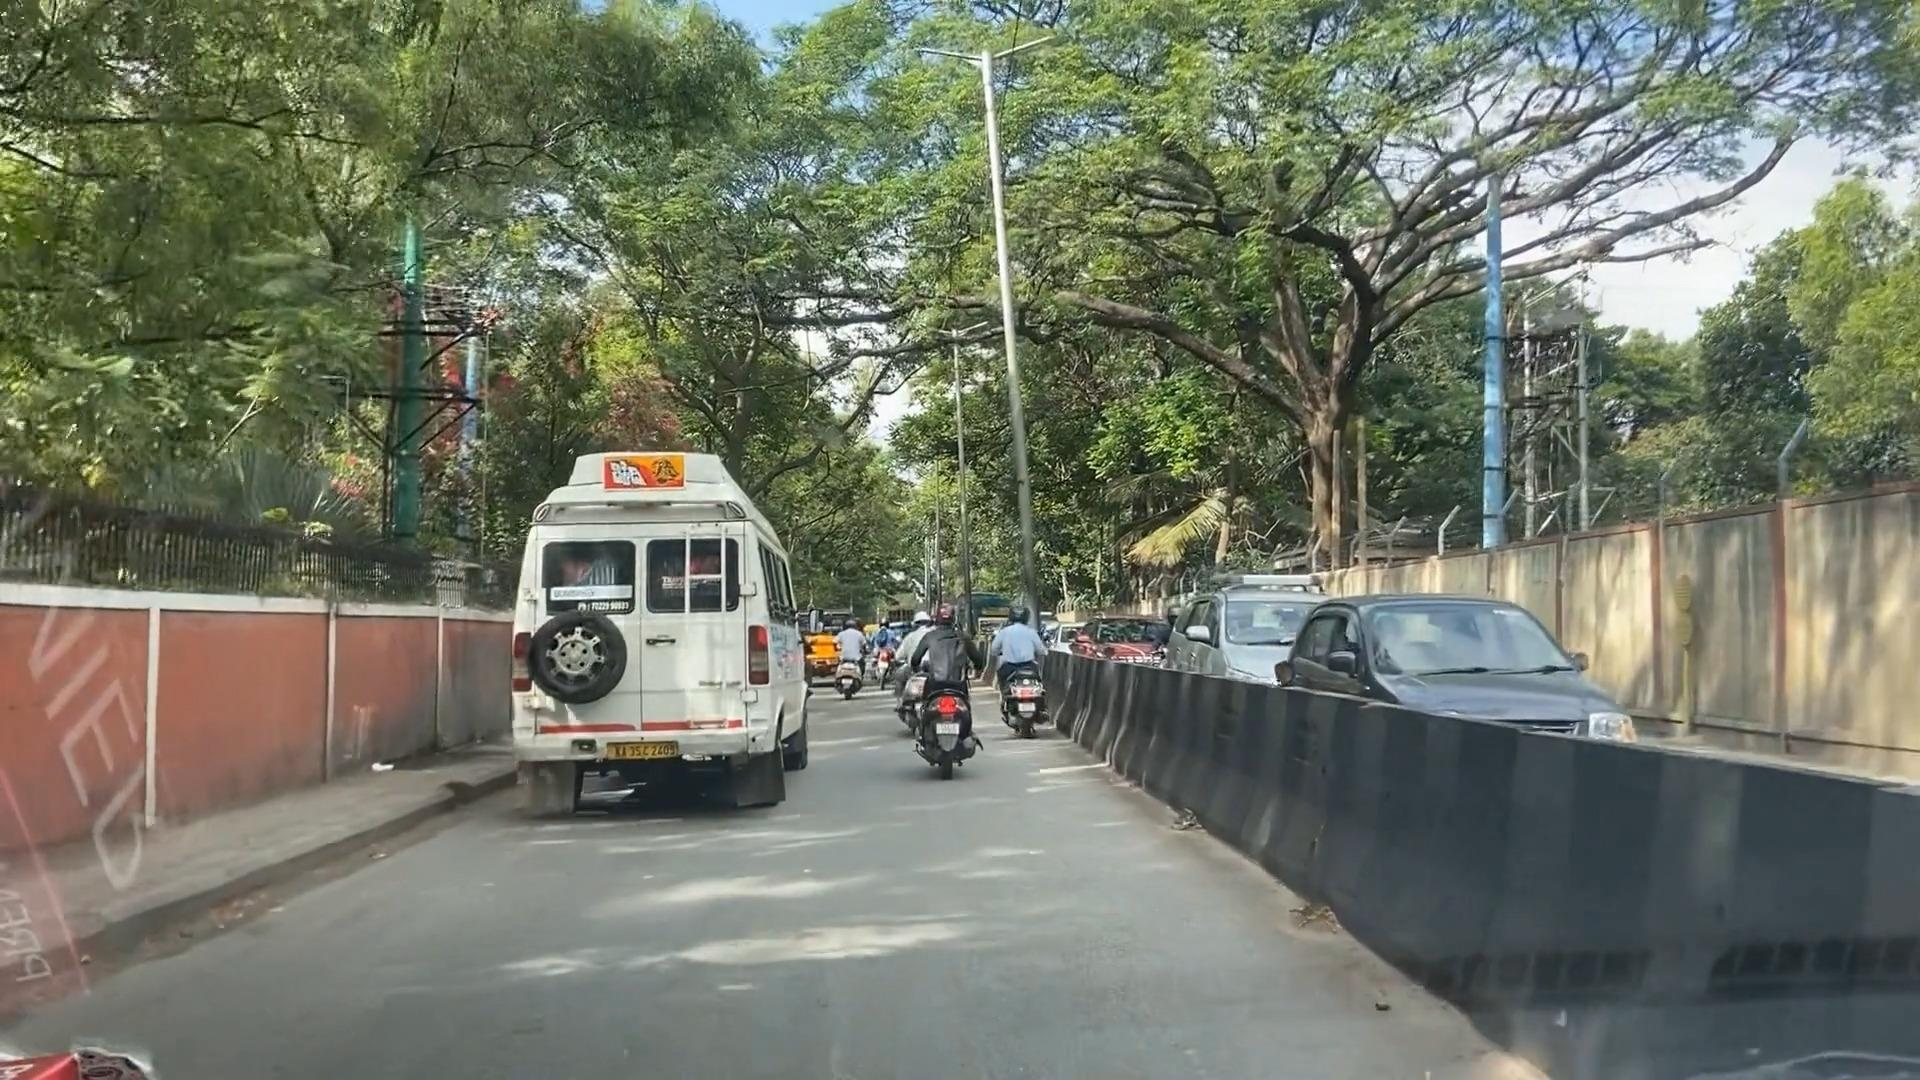HMV: (510, 427, 783, 818), (903, 593, 969, 771)
